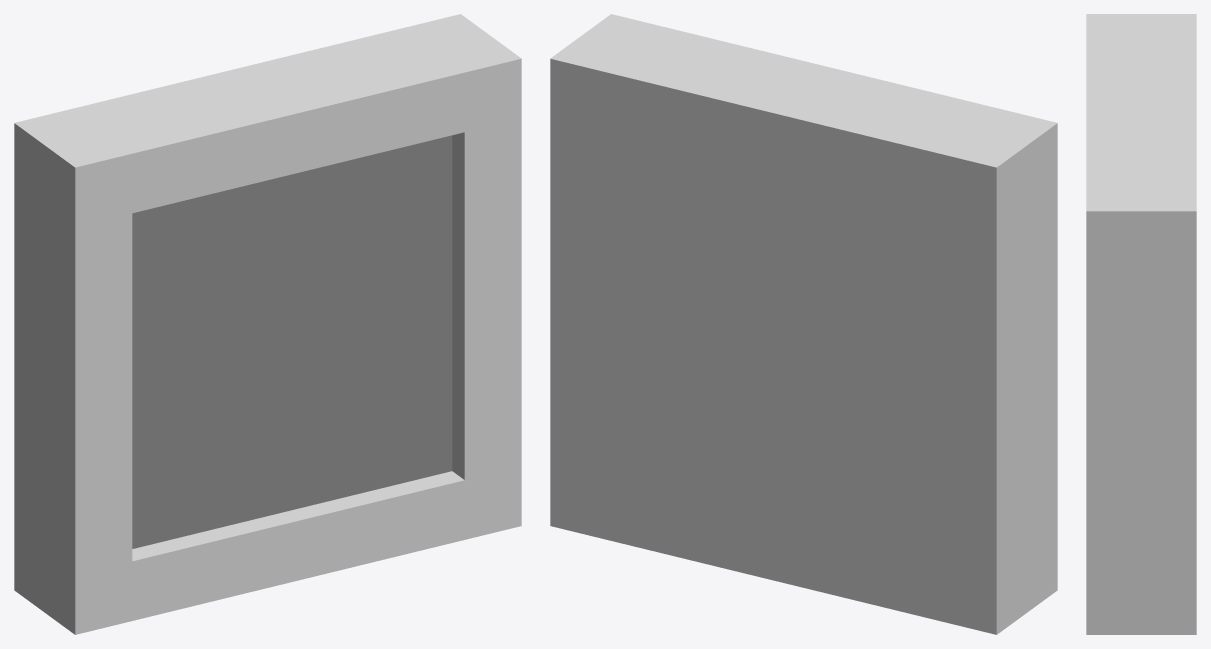
The model's file is Switch_C1.fbx.
3 renders of one model, left to right at view 1: azimuth 30°, elevation 25°; view 2: azimuth 150°, elevation 25°; view 3: azimuth 270°, elevation 25°, orthographic. The views are drawn at different scales.
Visible parts, largest first — view 1: Switch_C1; view 2: Switch_C1; view 3: Switch_C1.
Part boxes in pixels (bbox=[...]): Switch_C1: bbox=[14, 14, 521, 634]; Switch_C1: bbox=[550, 14, 1057, 634]; Switch_C1: bbox=[1086, 14, 1196, 634].
Size of the model in its own units: 8.28 by 8.28 by 1.96.
